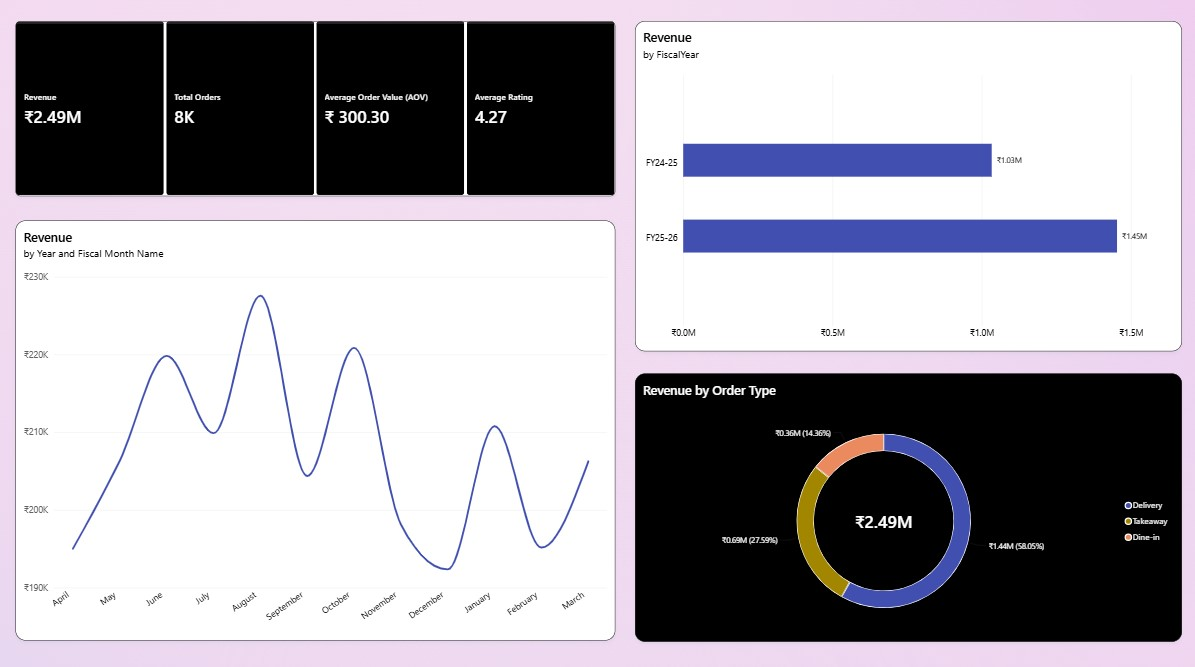

The dashboard page shown, as its layout file describes it:
{"tool":"powerbi","page":{"name":"Sales Performance","canvas":[1920,1080],"ordinal":0},"visuals":[{"type":"cardVisual","fields":{"Data":["Key Measures Table.Revenue","Key Measures Table.Total Orders","Key Measures Table.Average Order Value (AOV)","Key Measures Table.Average Rating"]},"box":[35.2,42.2,954.2,279],"z":0},{"type":"barChart","fields":{"Category":["DimDate.FiscalYear","DimDate.FiscalMonthName"],"Y":["Key Measures Table.Revenue"]},"box":[1022.2,42.2,869.8,525.2],"z":1000},{"type":"lineChart","fields":{"Category":["DimDate.FiscalYear","DimDate.FiscalMonthName"],"Y":["Key Measures Table.Revenue"]},"box":[35.2,361.1,954.2,668.2],"z":2000},{"type":"donutChart","title":"Revenue by Order Type","fields":{"Category":["Consolidated Sales.Order_Type"],"Y":["Key Measures Table.Revenue"]},"box":[1022.2,602.5,869.8,426.7],"z":3000}]}

Visuals, with their boxes in screenshot pixels (x1, y1, x2, y2), scaled from the page's 1920x1080 canvas onto the 1195x667 screenshot:
cardVisual - Key Measures Table.Revenue x Key Measures Table.Total Orders: x1=22, y1=26, x2=616, y2=198
barChart - DimDate.FiscalYear x DimDate.FiscalMonthName: x1=636, y1=26, x2=1178, y2=350
lineChart - DimDate.FiscalYear x DimDate.FiscalMonthName: x1=22, y1=223, x2=616, y2=636
"Revenue by Order Type" donutChart: x1=636, y1=372, x2=1178, y2=636
